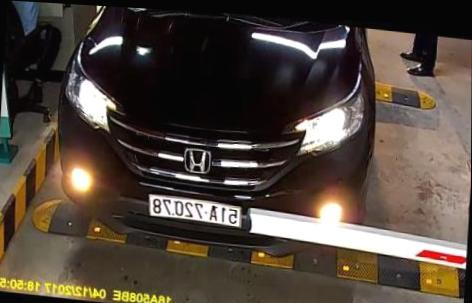License_Plate: (145, 194, 241, 230)
